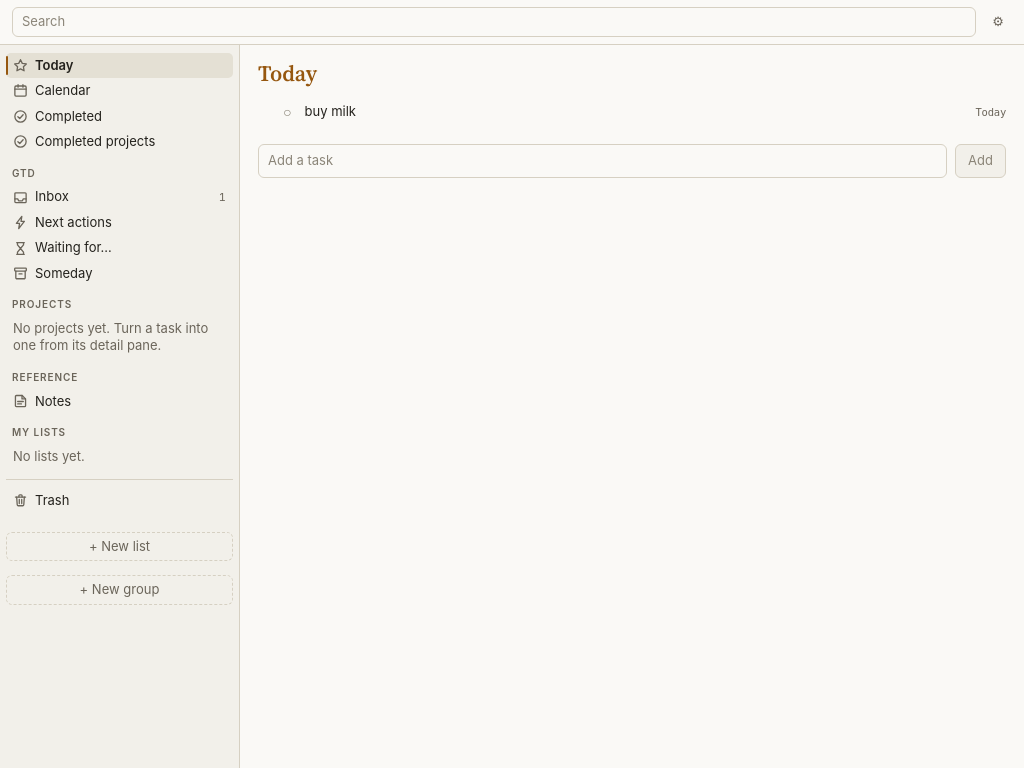
Test: Detail pane › opensOnRowClickAndClosesBack
Step 1. Click the button "buy milk" → click(330, 111), box [304, 98, 967, 126]
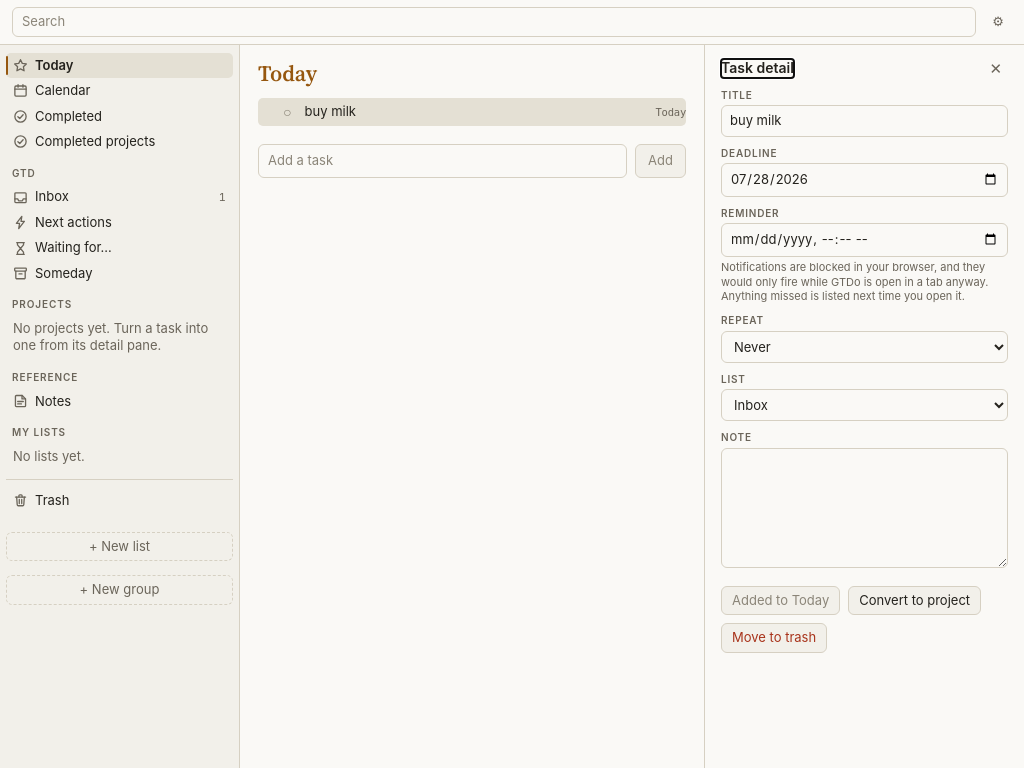
expect the element "Task detail" is shown: met, box [705, 44, 1023, 667]
Step 2. Click the button named "Close detail" → click(996, 68), box [983, 58, 1008, 78]
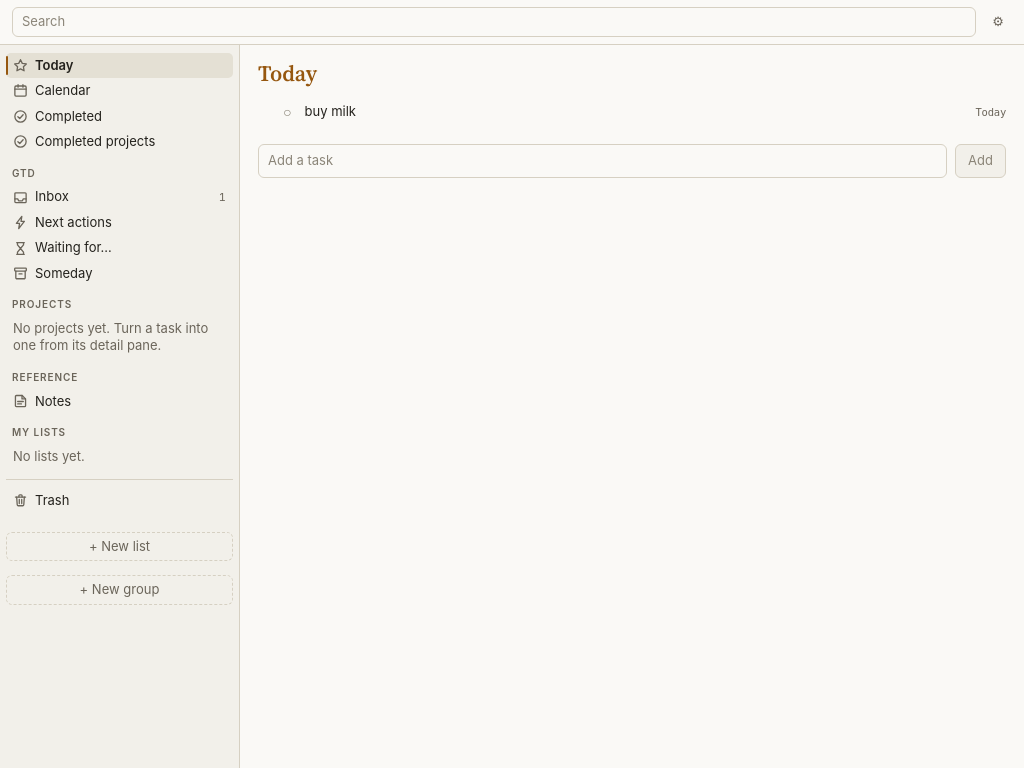
expect the heading "Task detail" is gone: met
